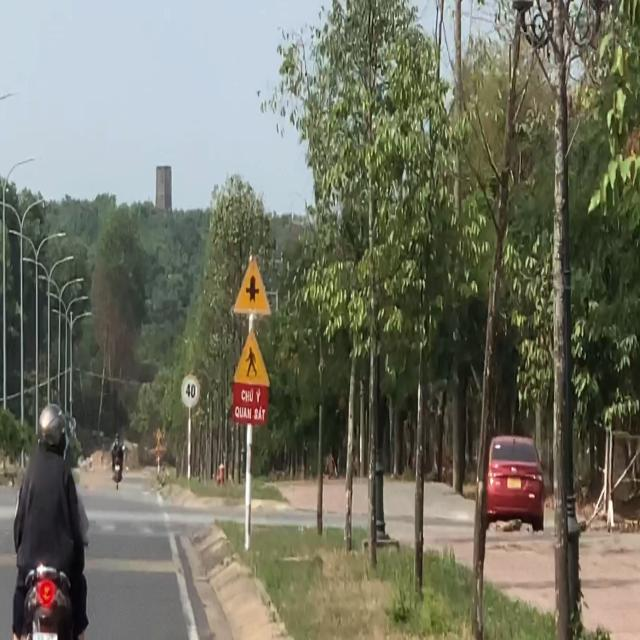Giao voi duong khong uu tien: (233, 252, 272, 316)
Nguoi di bo cat ngang: (232, 327, 271, 389)
Toc do toi da: (180, 373, 200, 408)
